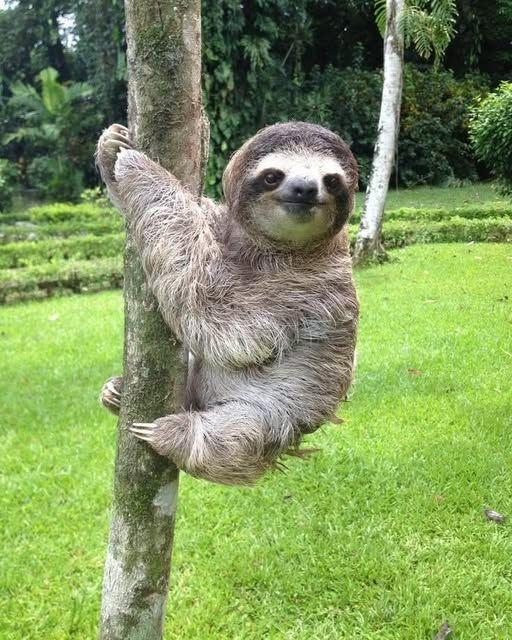koala: (97, 122, 357, 483)
